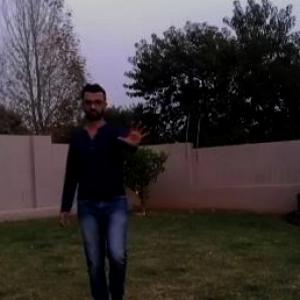follow_hand: (114, 115, 152, 148)
